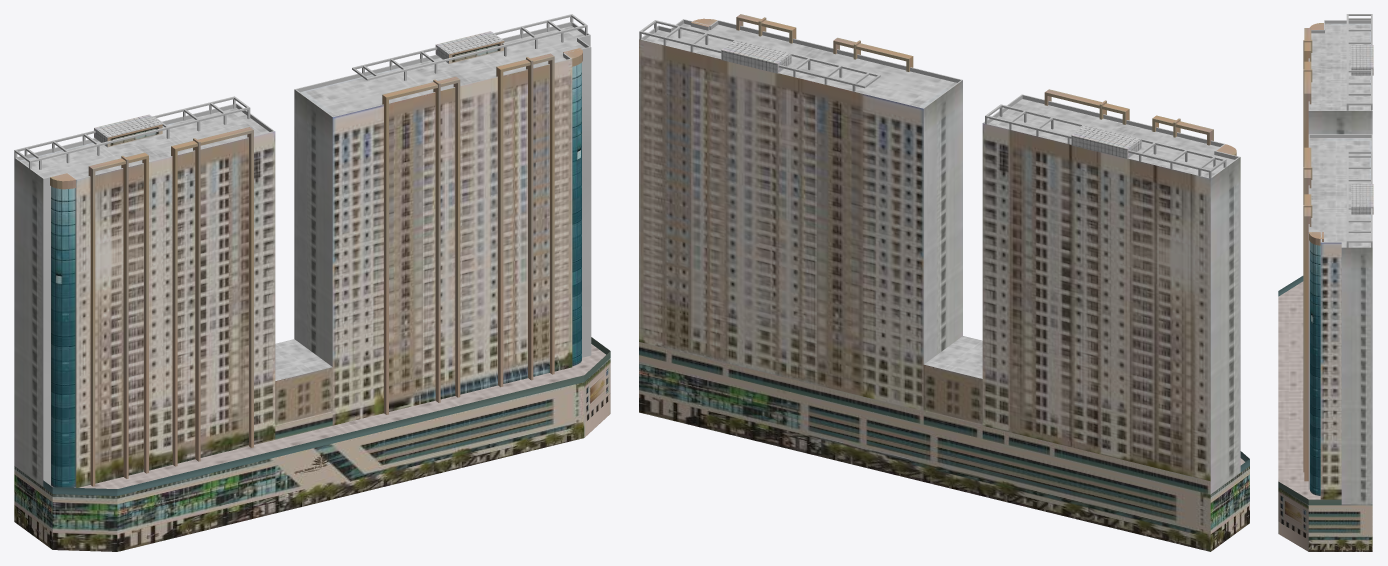
3 views of the same model, side by side, from view 1: azimuth 30°, elevation 25°; view 2: azimuth 150°, elevation 25°; view 3: azimuth 270°, elevation 25° (orthographic). The views are drawn at different scales.
Parts seen in each view (by area): view 1: HN546_TheGoldenPalm; view 2: HN546_TheGoldenPalm; view 3: HN546_TheGoldenPalm.
Part boxes in pixels (<box>): HN546_TheGoldenPalm: <box>14,14,610,551</box>; HN546_TheGoldenPalm: <box>639,14,1249,551</box>; HN546_TheGoldenPalm: <box>1278,14,1373,551</box>.
Bounding box in the file's own units: 157 × 101 × 27.77.
1 material, 1 textured.
